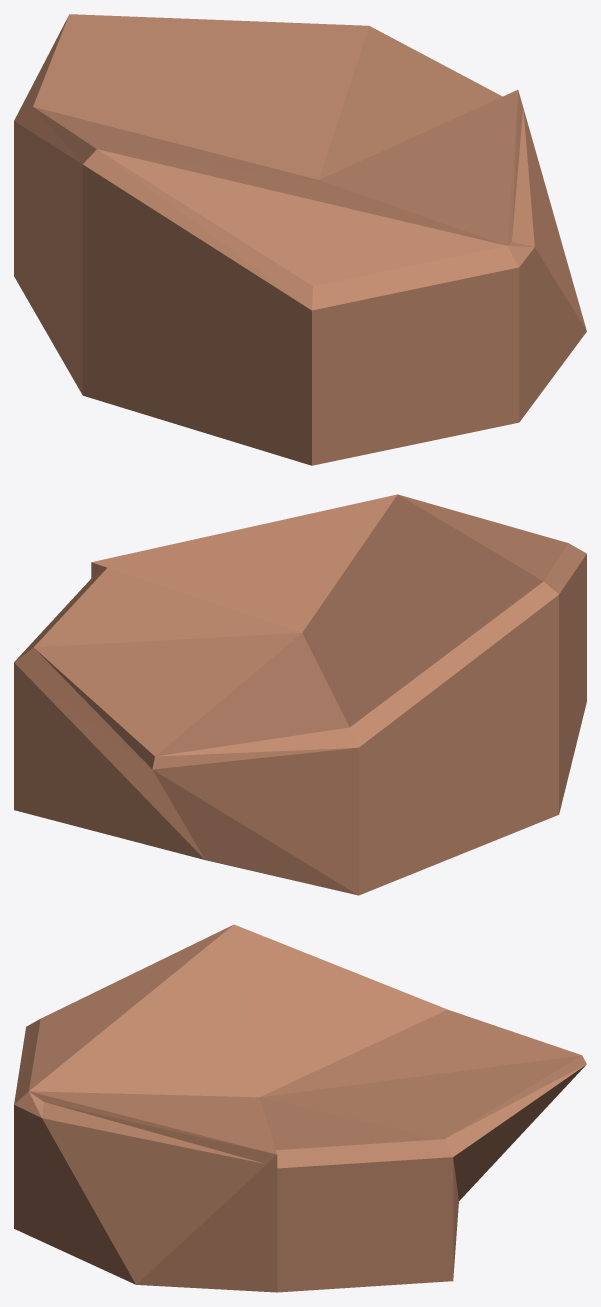
File: 12 Stone_1.FBX
3 renders of one model, top to bottom at view 1: azimuth 30°, elevation 25°; view 2: azimuth 150°, elevation 25°; view 3: azimuth 270°, elevation 25°, orthographic. The views are drawn at different scales.
Visible parts, largest first — view 1: Box254; view 2: Box254; view 3: Box254.
Boxes of the visible parts, x1,y1,x2,y2 form: Box254: [14, 14, 586, 465]; Box254: [14, 494, 586, 895]; Box254: [14, 924, 586, 1292].
Size of the model in its own units: 281 by 140 by 377.
